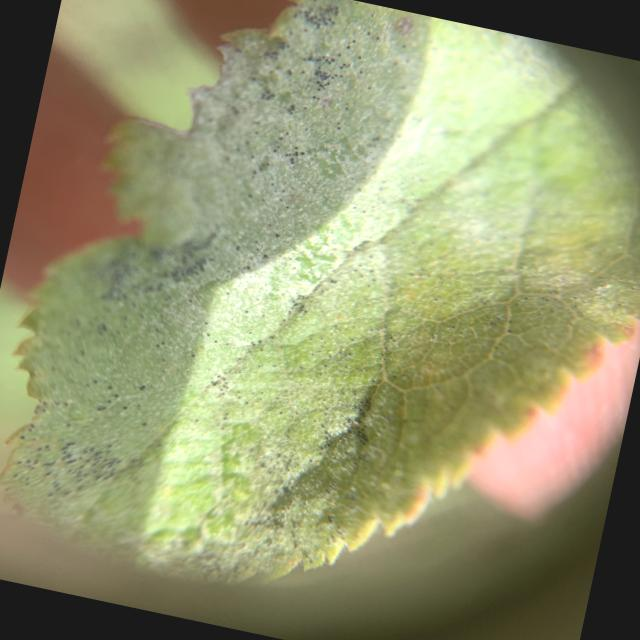powdery_mildew: (0, 0, 640, 582)
